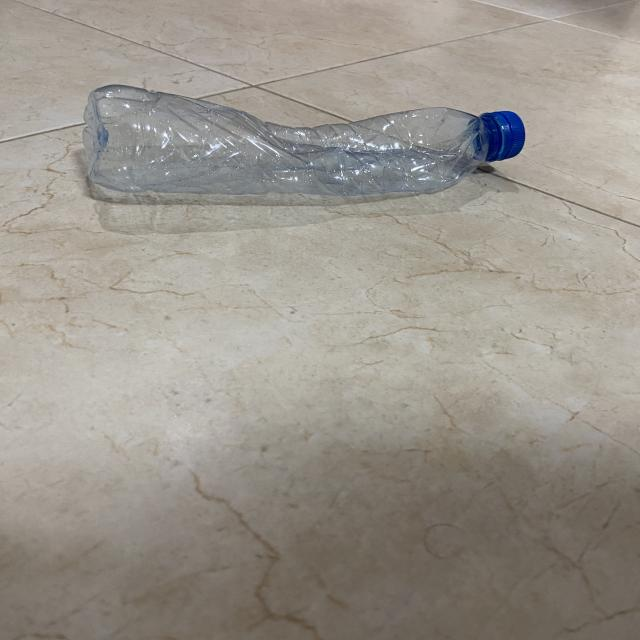plastic bottle: (57, 78, 544, 214)
